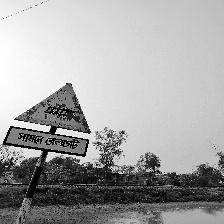Rail-crossing: (3, 84, 91, 157)
